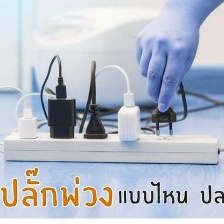three_eye_plug: (1, 128, 221, 167)
